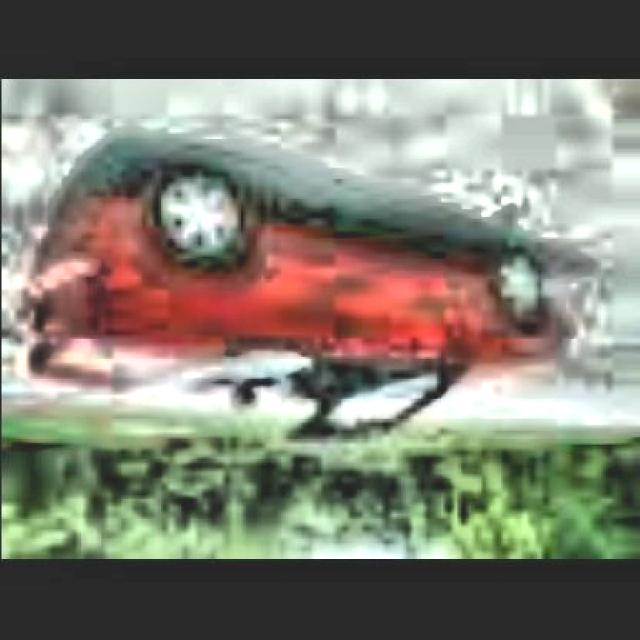red: (28, 225, 540, 471)
